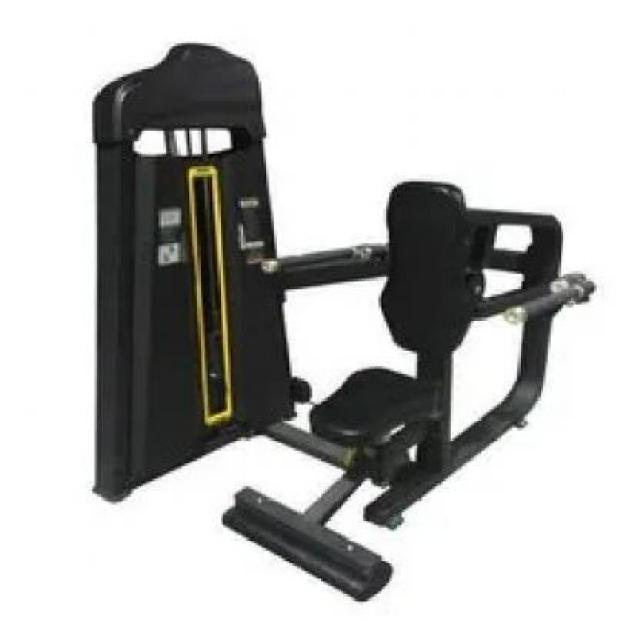seated dip machine: (97, 185, 600, 606)
